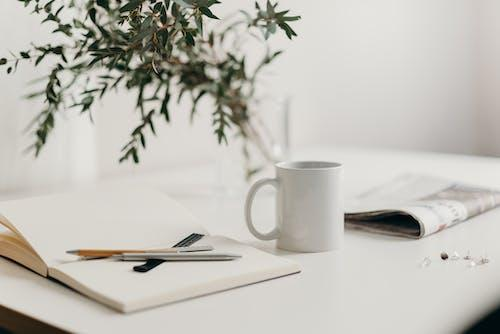Mug: (250, 130, 364, 267)
